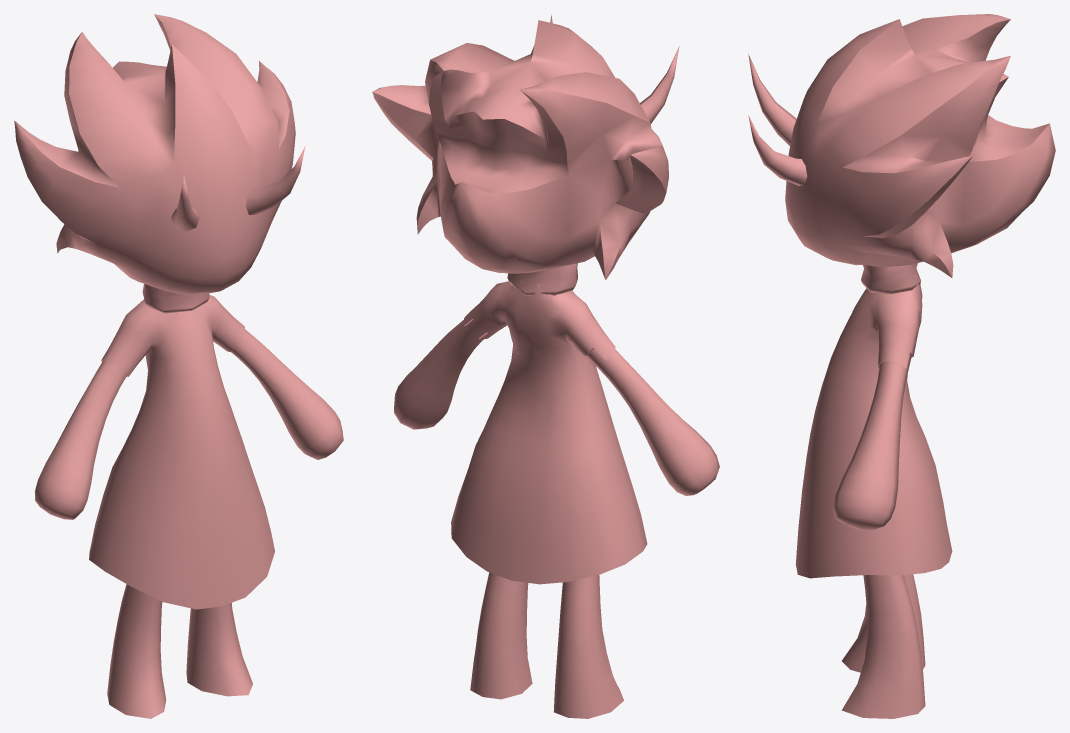
3 renders of one model, left to right at view 1: azimuth 30°, elevation 25°; view 2: azimuth 150°, elevation 25°; view 3: azimuth 270°, elevation 25°, orthographic. The views are drawn at different scales.
Visible parts, largest first — view 1: h_l_m_gm; view 2: h_l_m_gm; view 3: h_l_m_gm.
Boxes of the visible parts, x1,y1,x2,y2 form: h_l_m_gm: [14, 14, 343, 718]; h_l_m_gm: [372, 14, 719, 718]; h_l_m_gm: [748, 14, 1055, 718].
Bounding box in the file's own units: 43.73 × 89.58 × 37.46.
